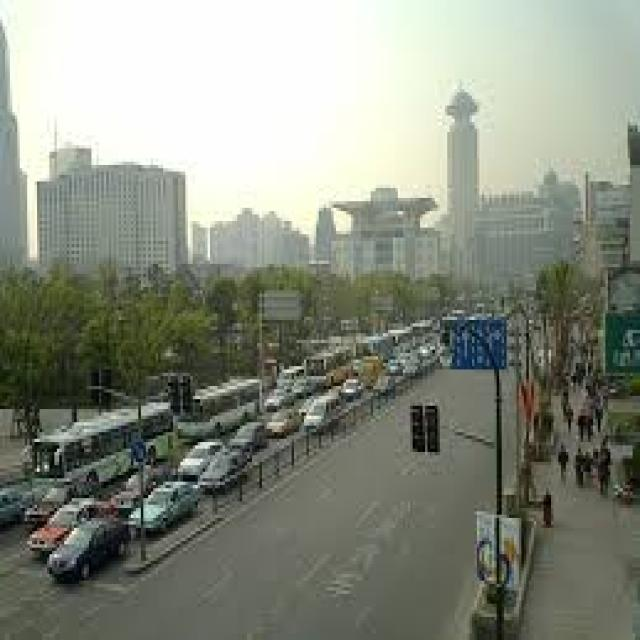high_traffic: (13, 309, 383, 563)
